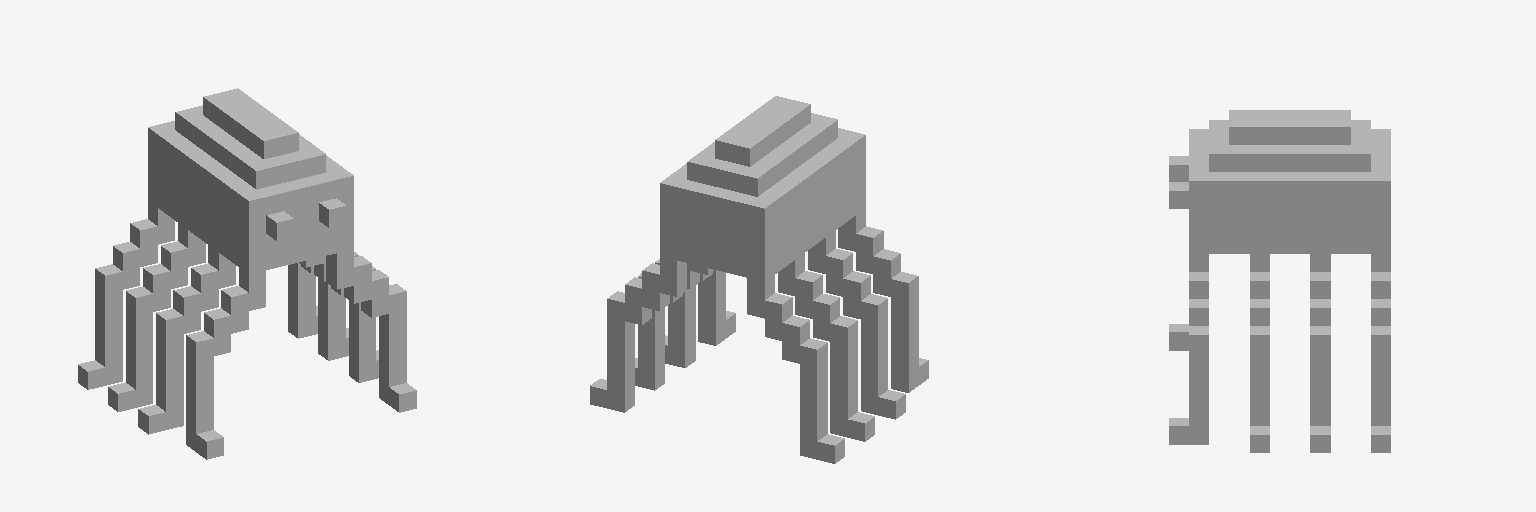
Rendered from spider.obj.
3 renders of one model, left to right at view 1: azimuth 30°, elevation 25°; view 2: azimuth 150°, elevation 25°; view 3: azimuth 270°, elevation 25°, orthographic.
Visible parts, largest first — view 1: spider; view 2: spider; view 3: spider.
Part boxes in pixels (left/top/right/bottom): spider: left=78, top=88, right=416, bottom=459; spider: left=590, top=96, right=928, bottom=463; spider: left=1169, top=110, right=1390, bottom=452.
Bounding box in the file's own units: 14 × 15 × 11.